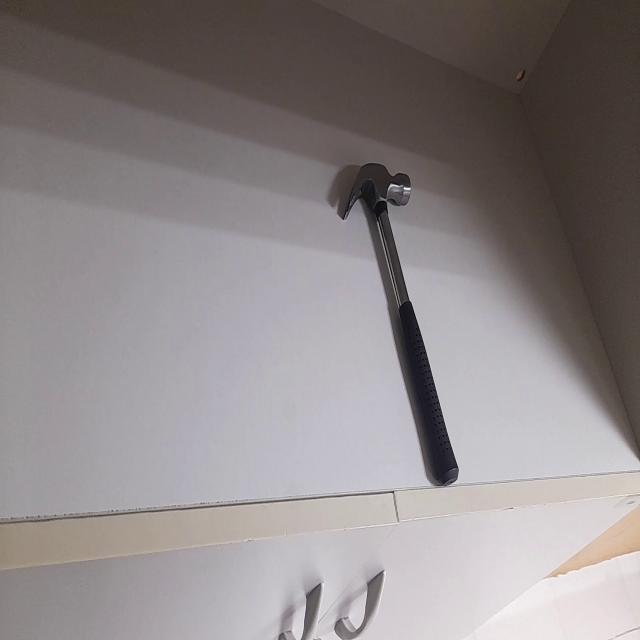hammer: (343, 162, 460, 489)
